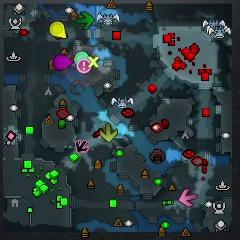Other: (78, 59, 91, 74), (88, 56, 99, 68)
p2: (74, 51, 91, 65)
p3: (52, 54, 73, 71)
p4: (49, 21, 67, 40)
x1: (179, 188, 198, 207)
x1Clone: (75, 139, 88, 152)
x2: (100, 122, 118, 142)
x4: (75, 11, 94, 29)
